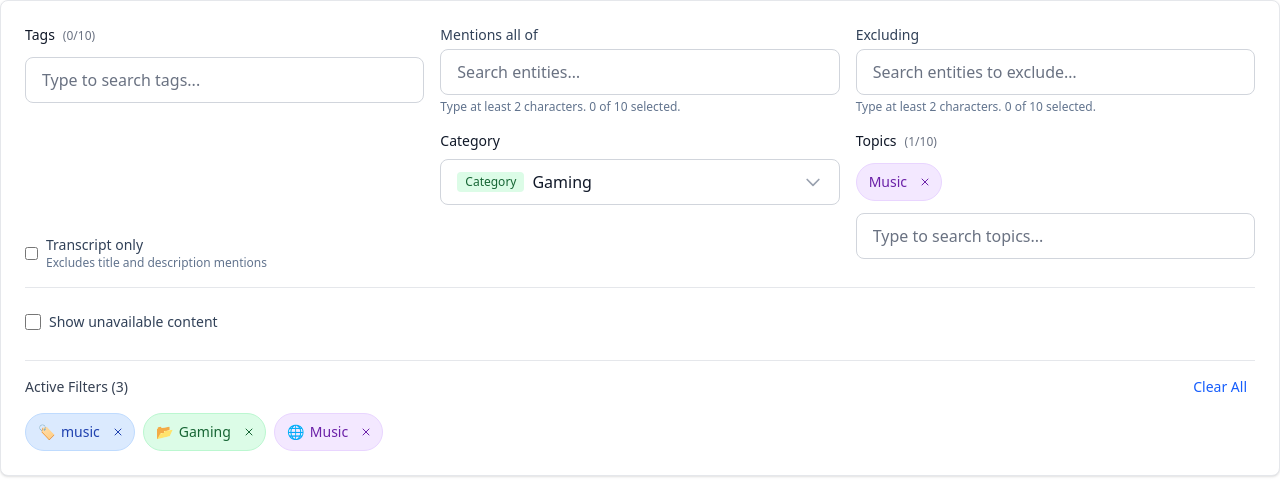
Test: VideoFilters › Clear All functionality (T048) › should clear all filters when Clear All clicked
The image size is (1280, 494).
Expected: the text "music" is shown, [61,422,100,442]
Expected: the text "Gaming" below "Mentions all of" is shown, [532,171,592,193]
Click the button "Clear All": (1220, 387) [1185,373,1255,401]
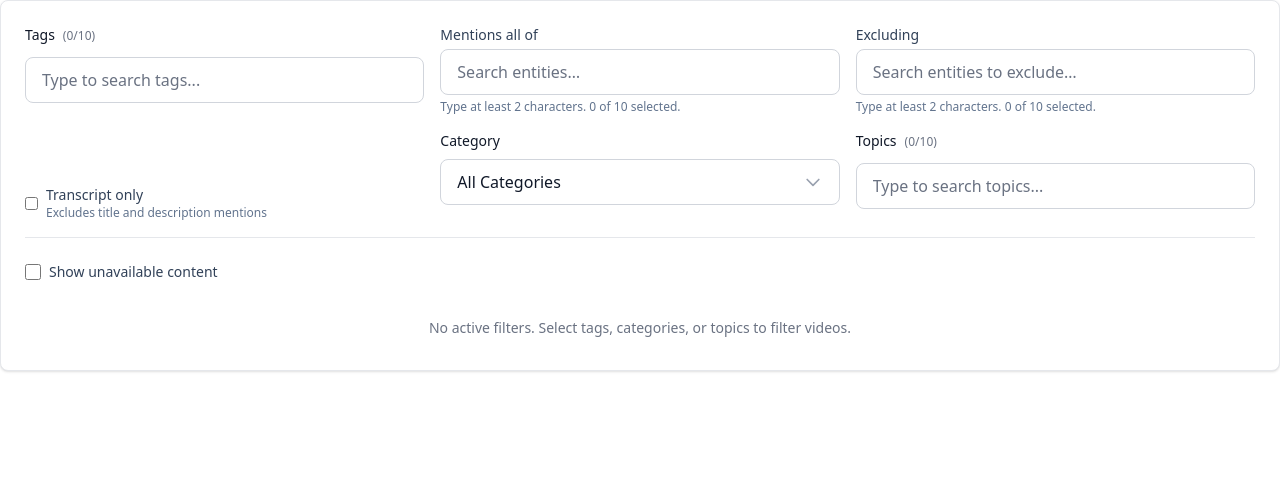
Expected: the text "No active filters. Select tags, categories, or topics to filter videos." is shown, [429,318,851,337]
